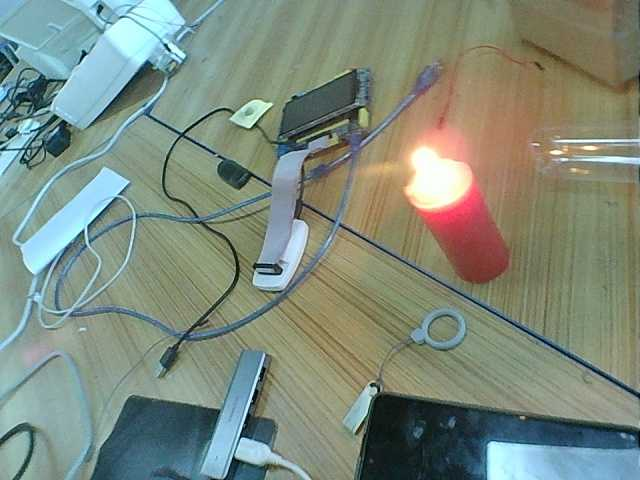candle: (425, 200, 521, 289)
fire: (400, 143, 466, 201)
